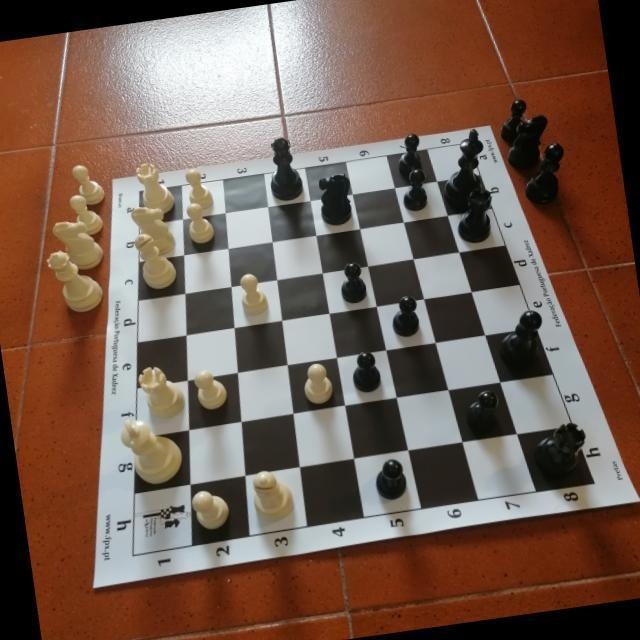black-bishop: (494, 308, 550, 374), (519, 141, 571, 209)
black-king: (435, 127, 493, 211)
black-knight: (501, 113, 555, 174), (315, 171, 356, 228), (496, 97, 532, 145)
black-pawn: (463, 387, 503, 434), (370, 456, 409, 503), (348, 348, 384, 395), (387, 293, 422, 339), (336, 259, 369, 306), (392, 132, 425, 178), (399, 166, 431, 213)
black-queen: (262, 134, 305, 204)
black-rook: (530, 419, 592, 479), (452, 185, 499, 247)
white-bishop: (133, 228, 179, 291), (249, 467, 296, 525)
white-king: (117, 411, 186, 489)
white-knight: (50, 217, 105, 275), (130, 202, 178, 260)
white-pawn: (190, 487, 232, 532), (67, 191, 105, 238), (71, 161, 108, 208), (193, 367, 229, 412), (237, 271, 270, 317), (301, 362, 335, 406), (184, 166, 215, 212), (184, 199, 215, 244)
white-queen: (45, 244, 107, 316)
white-rook: (136, 362, 188, 422), (134, 159, 177, 217)
